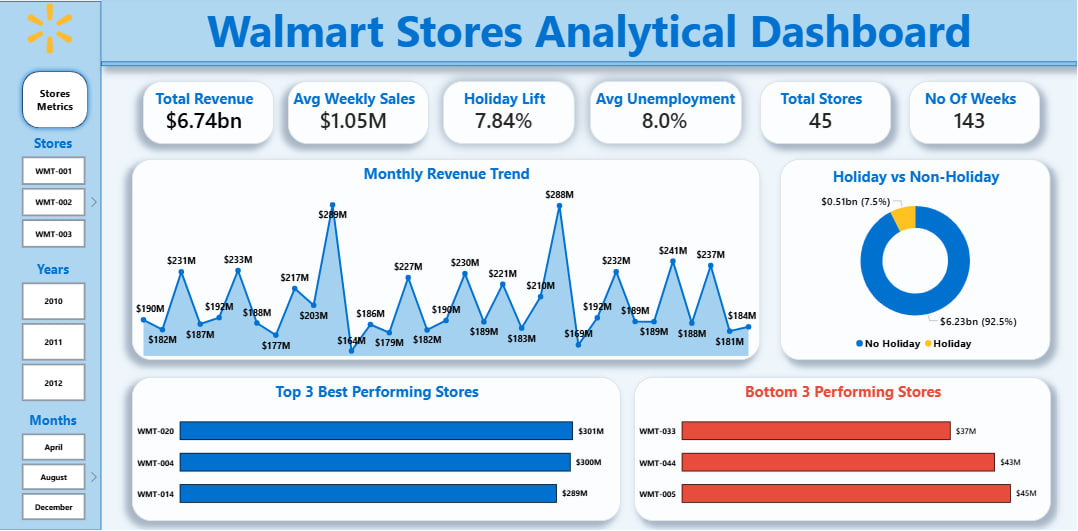

This screenshot's page, from the dashboard's own definition file:
{"tool":"powerbi","page":{"name":"Overview","canvas":[1650,810],"ordinal":0},"visuals":[{"type":"card","title":"Total Revenue","fields":{"Values":["Walmart_Sales.Total Revenue"]},"box":[221.8,124.2,200.5,96],"z":0},{"type":"card","title":"Holiday Lift","fields":{"Values":["Walmart_Sales.Holiday Lift %"]},"box":[680.3,123.5,200.9,96],"z":1000},{"type":"card","title":"Avg Unemployment","fields":{"Values":["Walmart_Sales.Avg Unemployment"]},"box":[904.8,124.2,232.4,95.8],"z":2000},{"type":"card","title":"Avg Weekly Sales","fields":{"Values":["Walmart_Sales.Avg Weekly Sales"]},"box":[443.5,124.2,214.7,95.8],"z":3000},{"type":"card","title":"Total Stores","fields":{"Values":["Walmart_Sales.Total Stores"]},"box":[1163.9,124.2,200.5,96],"z":4000},{"type":"areaChart","title":"Monthly Revenue Trend","fields":{"Category":["Calendar.Year_Month"],"Y":["Walmart_Sales.Total Revenue"]},"box":[204,243.1,959.8,306.9],"z":5000},{"type":"donutChart","title":"Holiday vs Non-Holiday","fields":{"Category":["Walmart_Sales.Holiday_Label"],"Y":["Walmart_Sales.Total Revenue"]},"box":[1195.8,243.1,413.4,306.9],"z":6000},{"type":"barChart","title":"Top 3 Best Performing Stores","fields":{"Category":["Walmart_Sales.Store_ID"],"Y":["Walmart_Sales.Total Revenue"]},"box":[204,576.6,746.9,220],"z":7000},{"type":"barChart","title":"Bottom 3 Performing Stores","fields":{"Category":["Walmart_Sales.Store_ID"],"Y":["Walmart_Sales.Total Revenue"]},"box":[972.3,576.6,636.9,220],"z":8000},{"type":"card","title":"No Of Weeks","fields":{"Values":["Walmart_Sales.Total Weeks Tracked"]},"box":[1392.7,124.2,200.5,96],"z":9000},{"type":"shape","box":[0,1.8,157.9,809],"z":10000},{"type":"slicer","title":"Stores","fields":{"Values":["Walmart_Sales.Store_ID"]},"box":[0,204,157.9,175.6],"z":11000},{"type":"slicer","title":"Years","fields":{"Values":["Walmart_Sales.Year"]},"box":[0,397.4,157.9,218.2],"z":12000},{"type":"slicer","title":"Months","fields":{"Values":["Calendar.Month_Name"]},"box":[0,628.1,157.9,168.5],"z":13000},{"type":"shape","title":"Walmart Stores Analytical Dashboard","box":[157.9,0,1492.1,101.1],"z":14000},{"type":"image","box":[0,0,157.9,86.9],"z":15000},{"type":"pageNavigator","box":[29.5,101.4,116.1,103.2],"z":16000}]}

Visuals, with their boxes in screenshot pixels (x1, y1, x2, y2), scaled from the page's 1650x810 canvas onto the 1078x531 screenshot:
"Total Revenue" card: <region>145, 81, 276, 144</region>
"Holiday Lift" card: <region>444, 81, 576, 144</region>
"Avg Unemployment" card: <region>591, 81, 743, 144</region>
"Avg Weekly Sales" card: <region>290, 81, 430, 144</region>
"Total Stores" card: <region>760, 81, 891, 144</region>
"Monthly Revenue Trend" areaChart: <region>133, 159, 760, 361</region>
"Holiday vs Non-Holiday" donutChart: <region>781, 159, 1051, 361</region>
"Top 3 Best Performing Stores" barChart: <region>133, 378, 621, 522</region>
"Bottom 3 Performing Stores" barChart: <region>635, 378, 1051, 522</region>
"No Of Weeks" card: <region>910, 81, 1041, 144</region>
shape: <region>0, 1, 103, 530</region>
"Stores" slicer: <region>0, 134, 103, 249</region>
"Years" slicer: <region>0, 261, 103, 404</region>
"Months" slicer: <region>0, 412, 103, 522</region>
"Walmart Stores Analytical Dashboard" shape: <region>103, 0, 1077, 66</region>
image: <region>0, 0, 103, 57</region>
pageNavigator: <region>19, 66, 95, 134</region>
